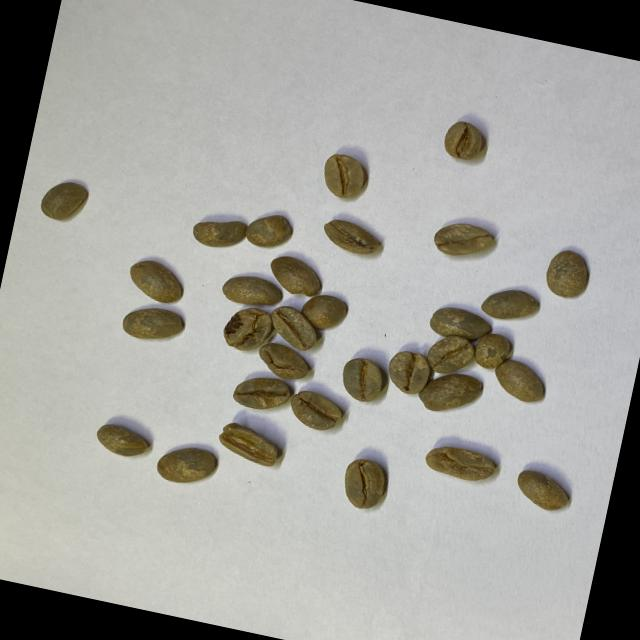bad: (215, 420, 285, 470), (422, 440, 496, 485), (264, 252, 326, 300), (220, 302, 274, 356), (320, 213, 382, 260), (254, 340, 313, 383)
good: (414, 366, 486, 422), (152, 439, 222, 491), (118, 300, 186, 348), (124, 256, 188, 307), (228, 369, 294, 416), (478, 282, 544, 328), (430, 217, 495, 263), (540, 246, 594, 301), (338, 455, 390, 512), (489, 356, 548, 406), (426, 302, 492, 346), (219, 269, 286, 312), (512, 466, 572, 514), (286, 387, 346, 435), (265, 303, 322, 352), (36, 176, 90, 227), (336, 354, 387, 406), (189, 212, 249, 256), (317, 152, 369, 202), (92, 420, 152, 463), (384, 346, 433, 398), (243, 208, 295, 255), (424, 331, 476, 378), (438, 116, 487, 164), (298, 292, 350, 336), (470, 330, 513, 372)
